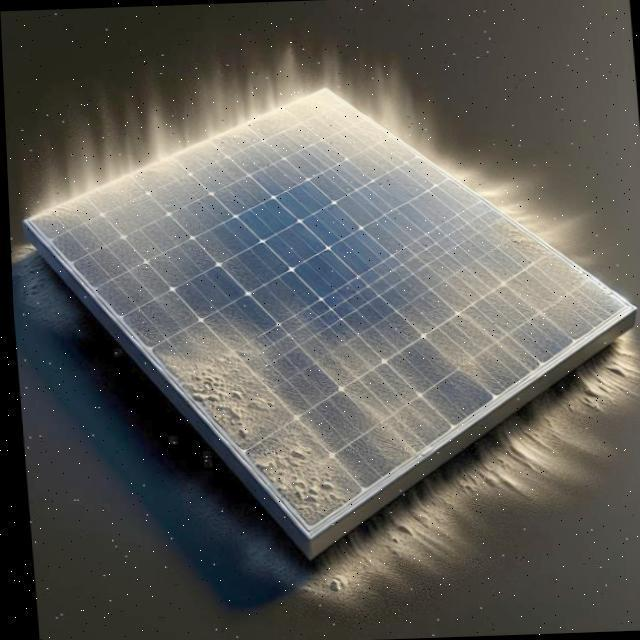Anomaly Solar Panel: (23, 0, 631, 565)
Surface Contaminant: (23, 0, 631, 566)
